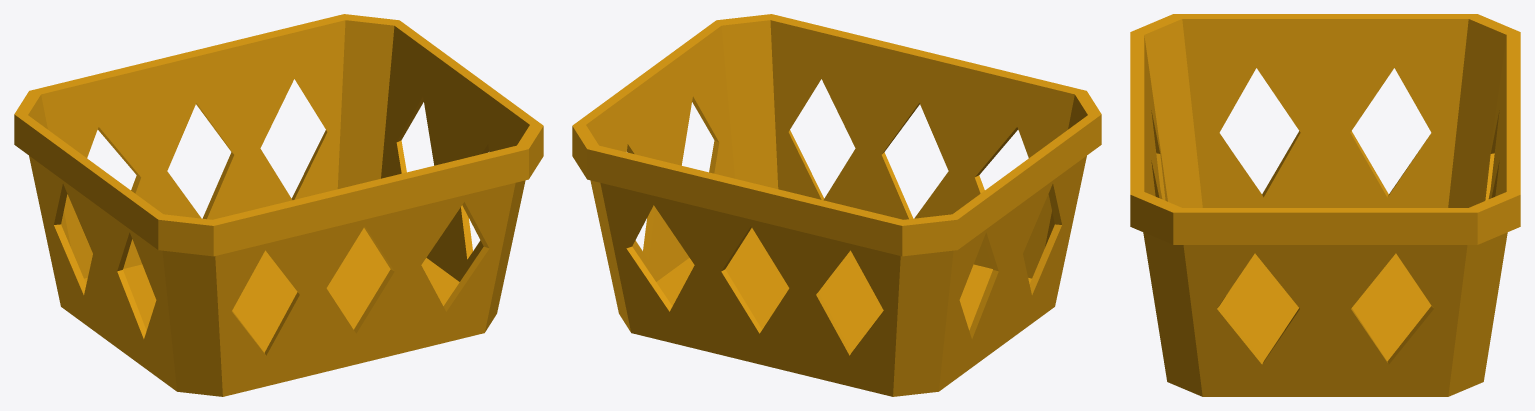
The model's file is SM_Cook_Basket_Yellow_01.glb.
3 views of the same model, side by side, from view 1: azimuth 30°, elevation 25°; view 2: azimuth 150°, elevation 25°; view 3: azimuth 270°, elevation 25° (orthographic). The views are drawn at different scales.
Parts seen in each view (by area): view 1: SM_Cook_Basket_Yellow_01; view 2: SM_Cook_Basket_Yellow_01; view 3: SM_Cook_Basket_Yellow_01.
Boxes of the visible parts, <box> form: SM_Cook_Basket_Yellow_01: <box>14,14,543,396</box>; SM_Cook_Basket_Yellow_01: <box>572,14,1101,396</box>; SM_Cook_Basket_Yellow_01: <box>1130,14,1520,396</box>.
Bounding box in the file's own units: 0.318 × 0.15 × 0.2638.
1 material, 1 textured.
